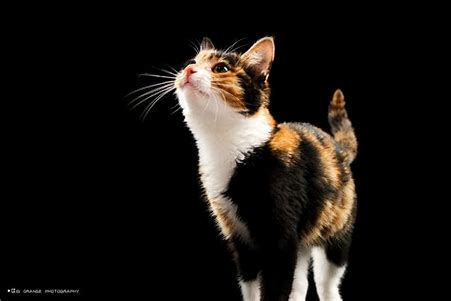cat: (151, 31, 366, 301)
